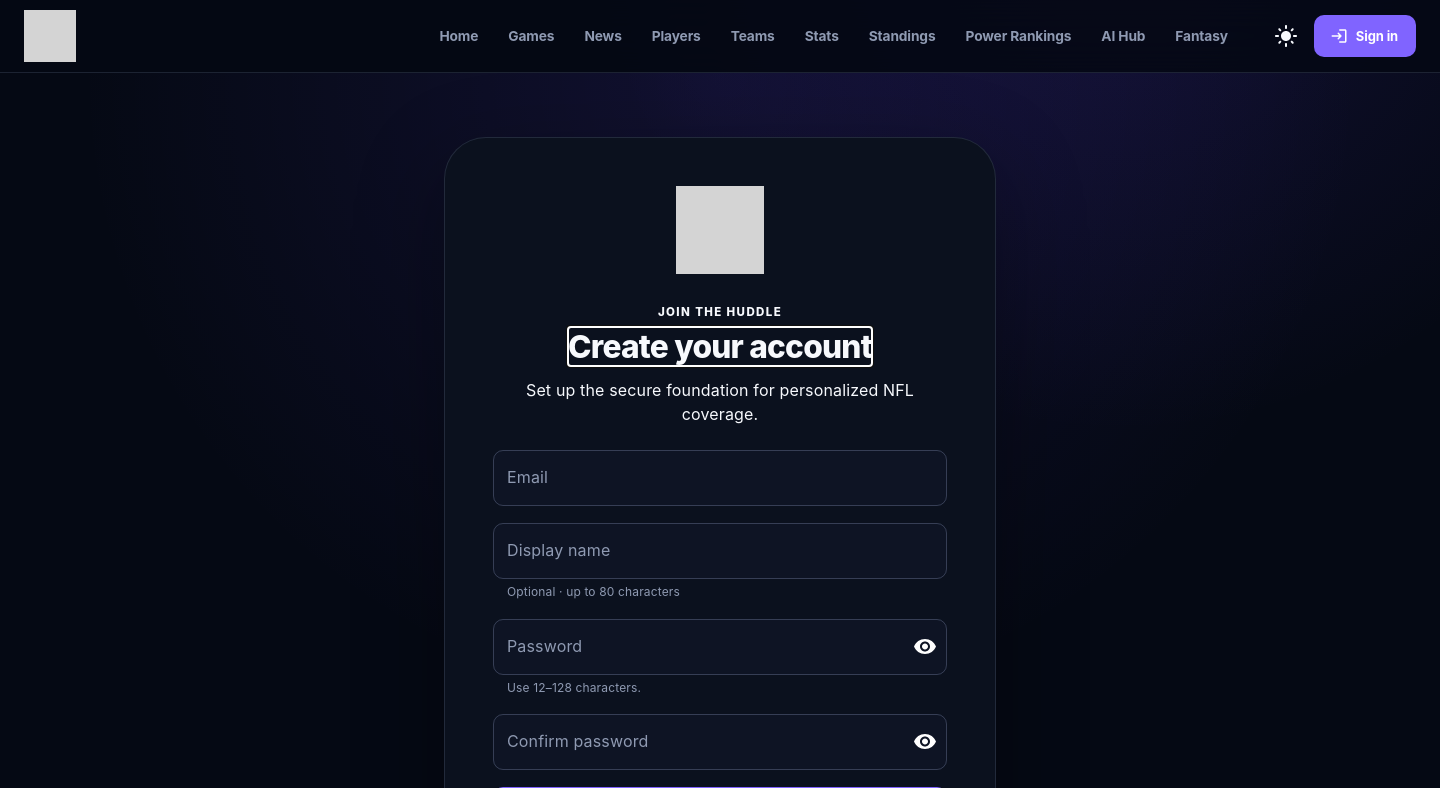
Scenario: registration › maps duplicate-email errors safely
Type "fan@example.com" into the field labelled "Email" at point(720, 478), box x1=493 y1=450 x2=947 y2=506
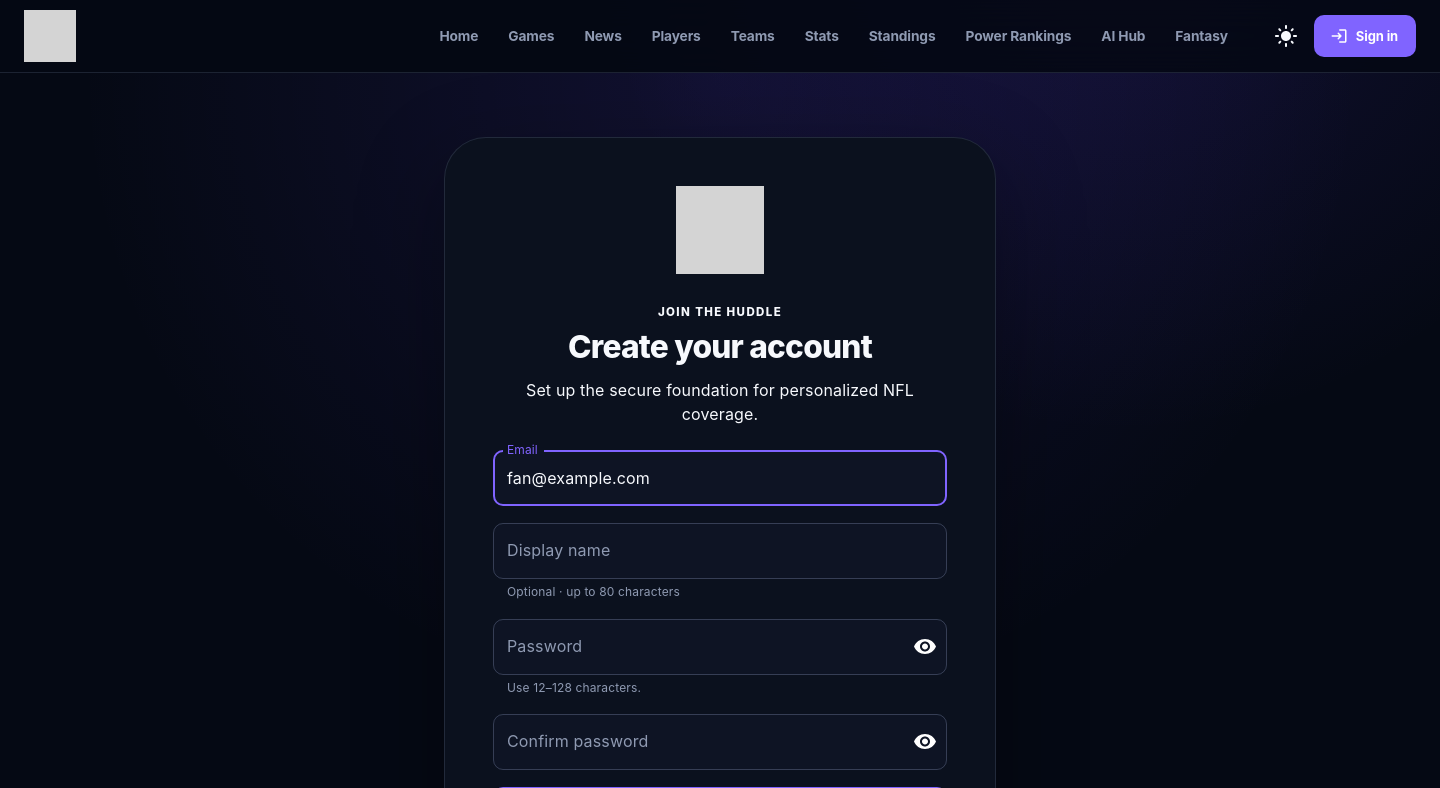
Type "Fourth Down Fan" into the field labelled "Display name" at point(720, 551), box x1=493 y1=523 x2=947 y2=579
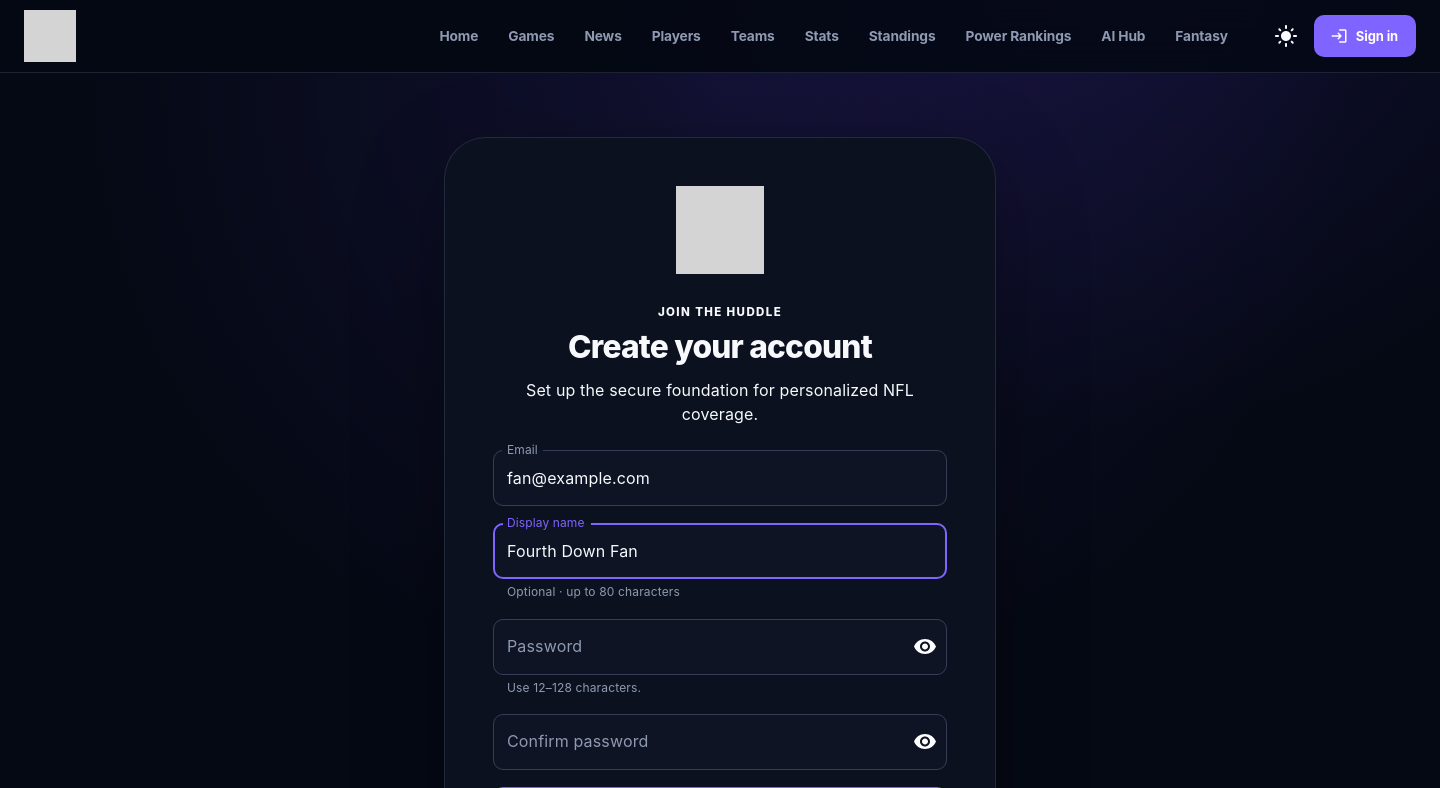
Type "a secure password" into the password field labelled "Password" at point(695, 647), box x1=493 y1=619 x2=897 y2=675
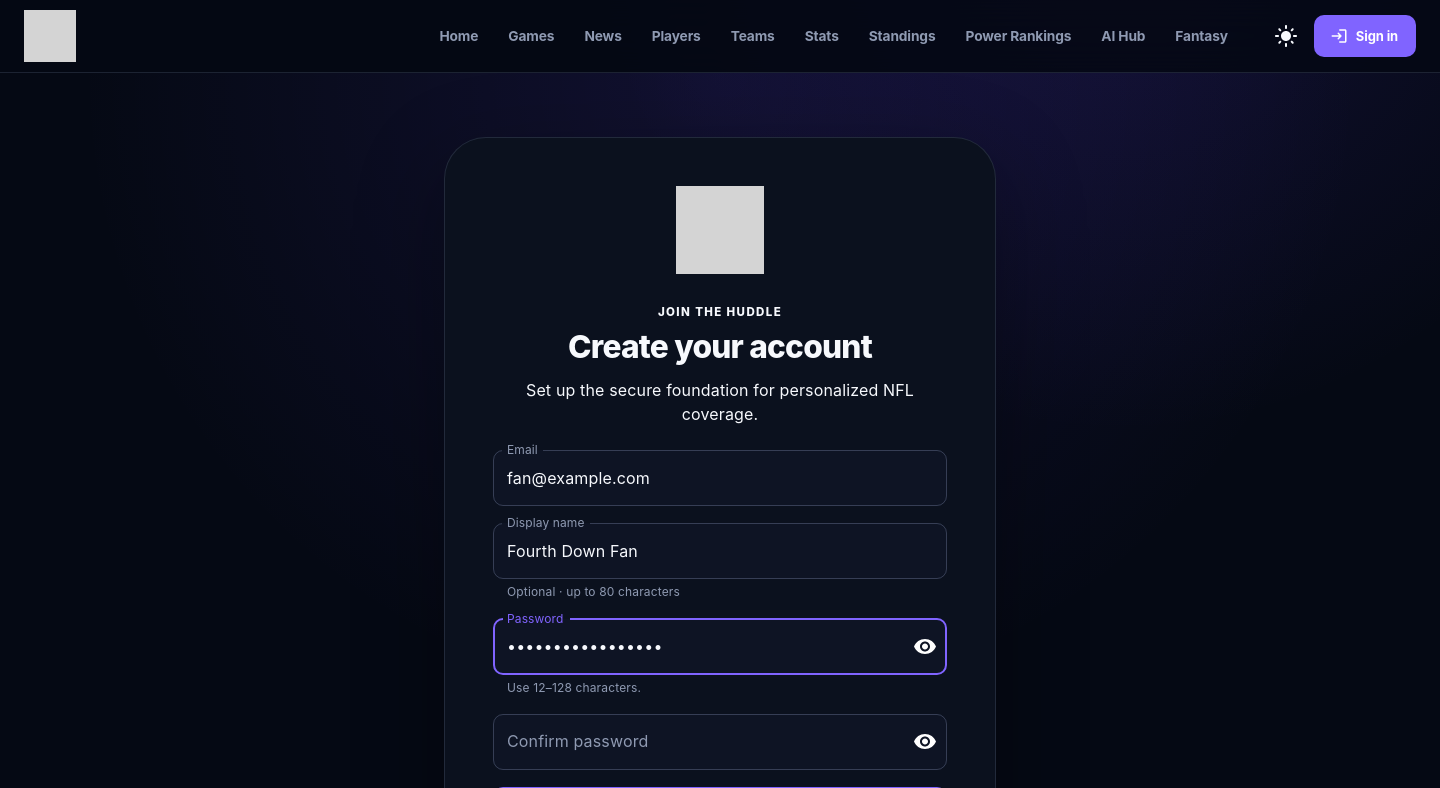
Type "a secure password" into the password field labelled "Confirm password" at point(695, 742), box x1=493 y1=714 x2=897 y2=770
(page scrolled)
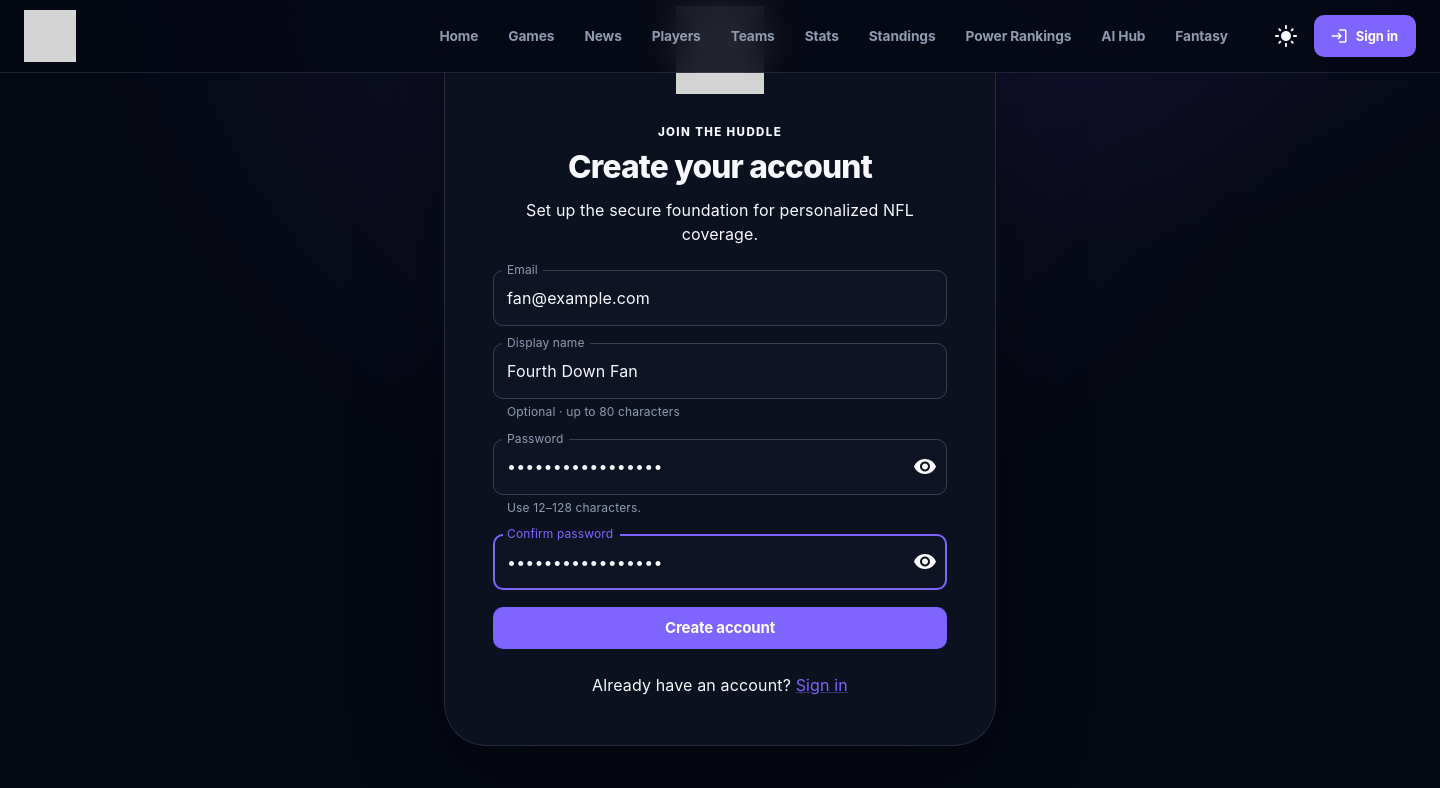
Click the button "Create account" at point(720, 628), box x1=493 y1=607 x2=947 y2=650
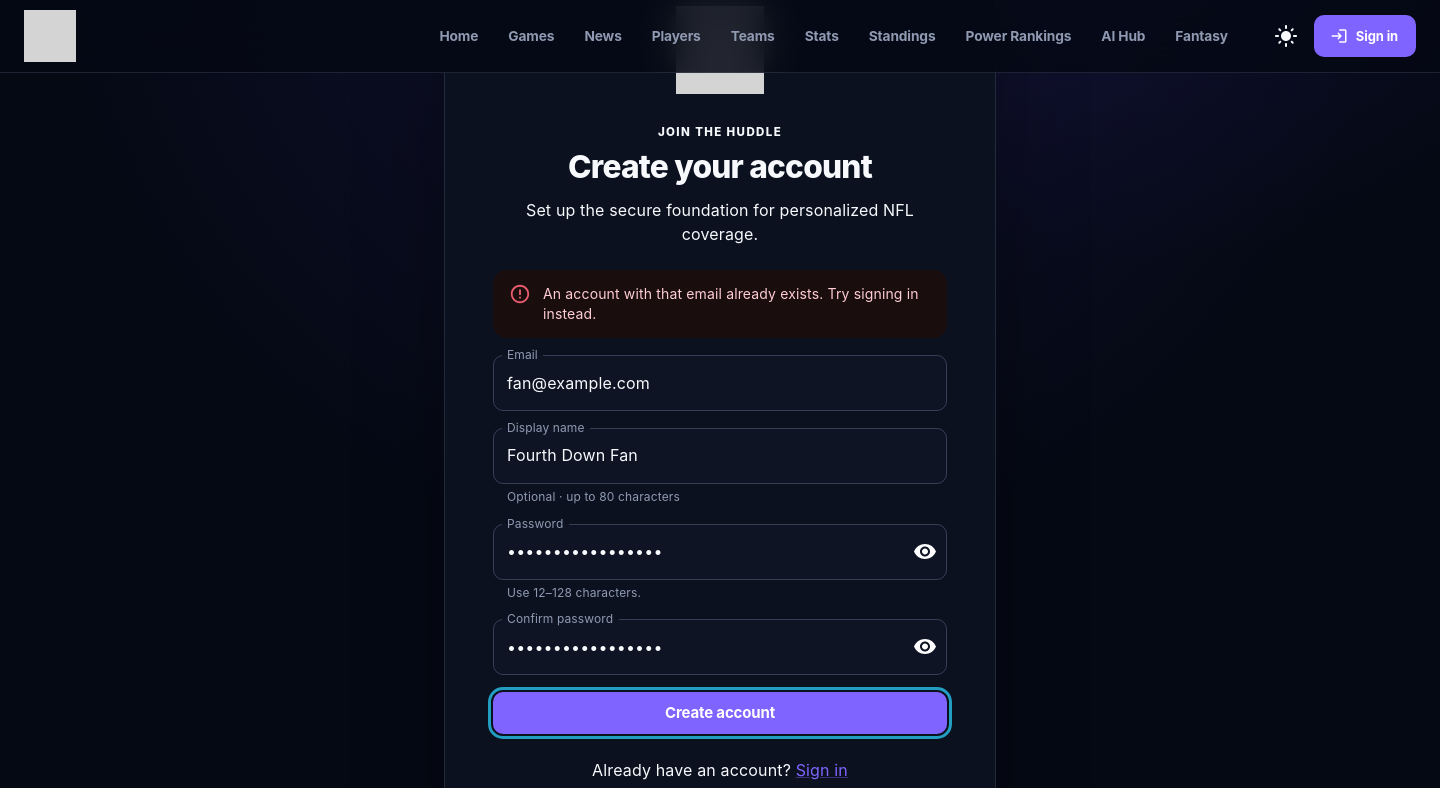
Expected: the text "account with that email already exists" is shown, x1=543 y1=285 x2=919 y2=322
